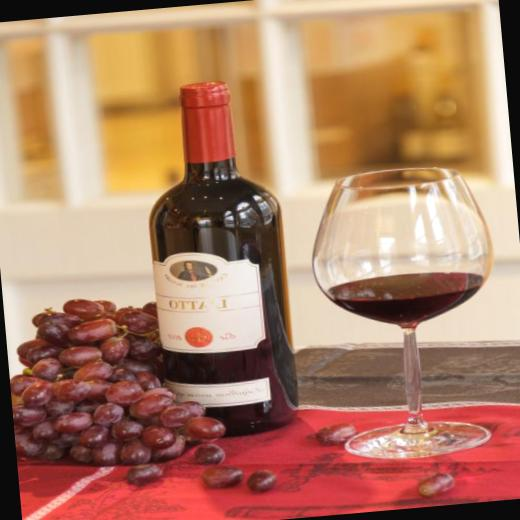Orange: (4, 286, 230, 474), (412, 472, 459, 498), (197, 465, 241, 488), (242, 466, 276, 492), (315, 423, 356, 444), (124, 463, 162, 484), (196, 444, 224, 464)
